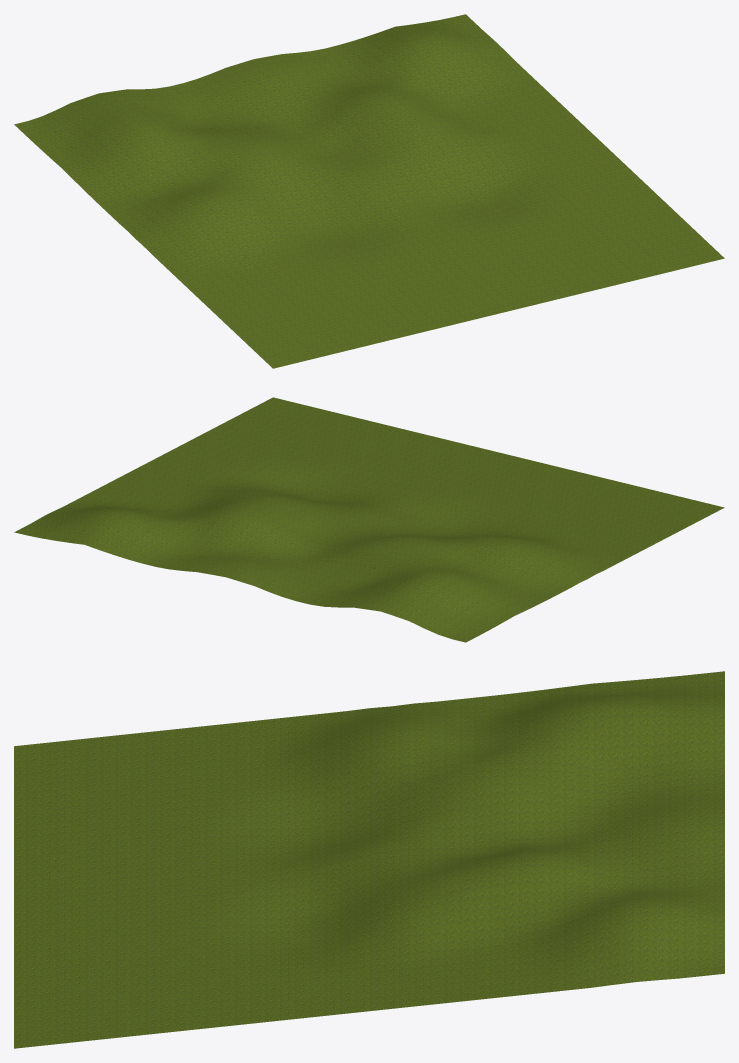
File: TerrainBack.fbx
3 views of the same model, one above another, from view 1: azimuth 30°, elevation 25°; view 2: azimuth 150°, elevation 25°; view 3: azimuth 270°, elevation 25° (orthographic). The views are drawn at different scales.
Visible parts, largest first — view 1: BackPlane; view 2: BackPlane; view 3: BackPlane.
Part boxes in pixels (x1,y1,x2,y2): BackPlane: (14,14,724,368); BackPlane: (14,397,724,642); BackPlane: (14,671,724,1048).
Size of the model in its own units: 8520 by 1230 by 8463.
